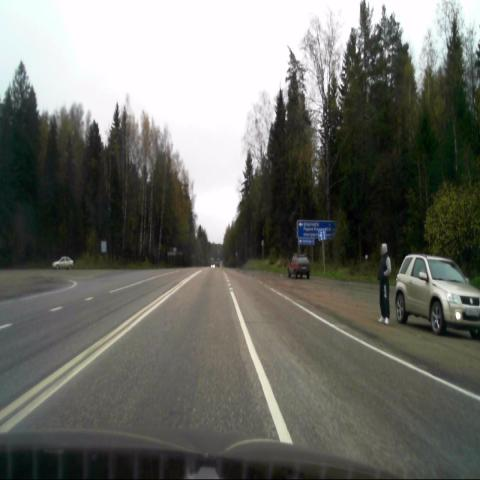5_15_2_2: (318, 229, 326, 241)
